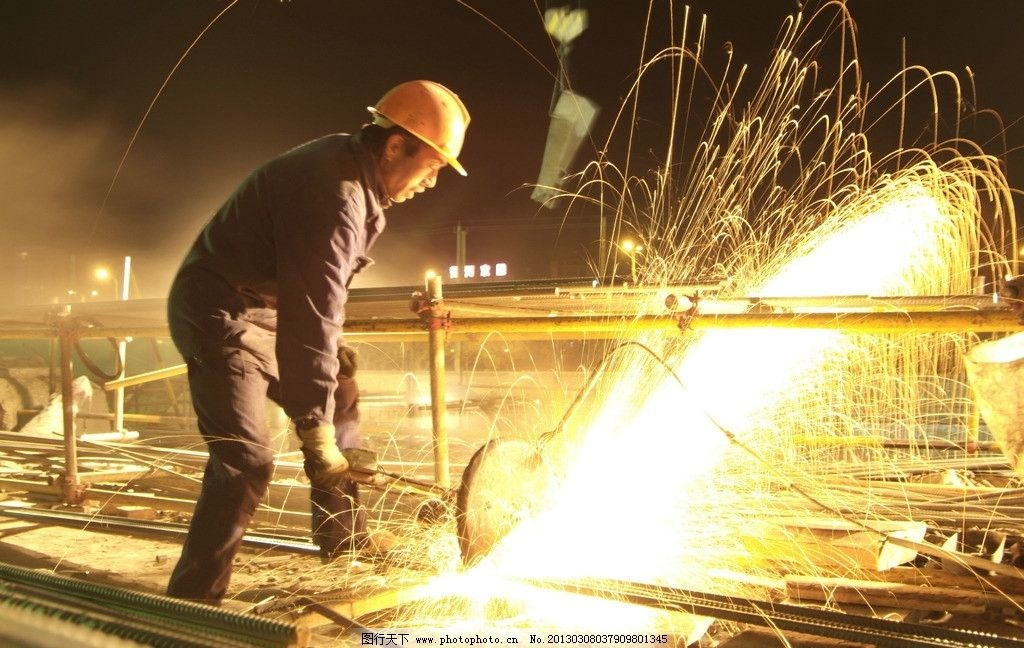yellow: (360, 75, 470, 205)
